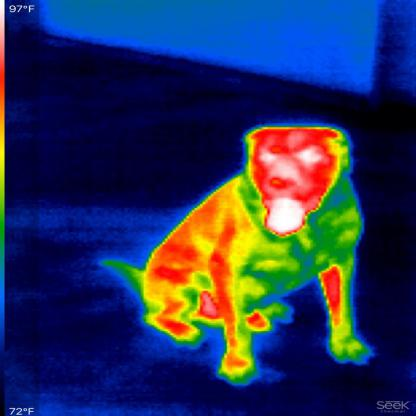dog: (103, 118, 382, 389)
